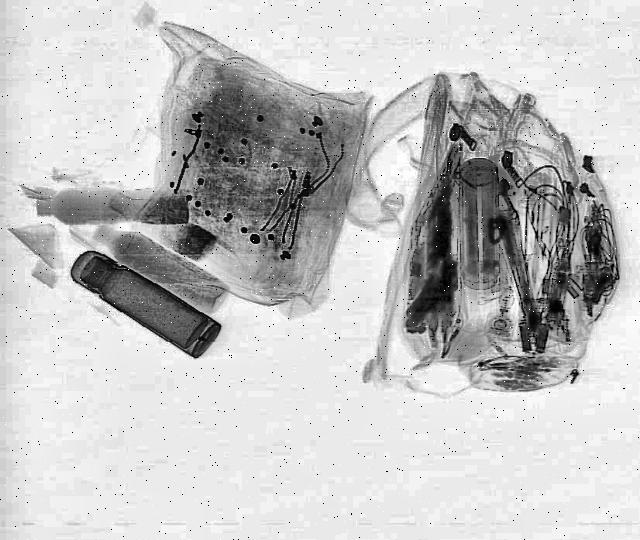Wrench: (503, 210, 542, 344)
